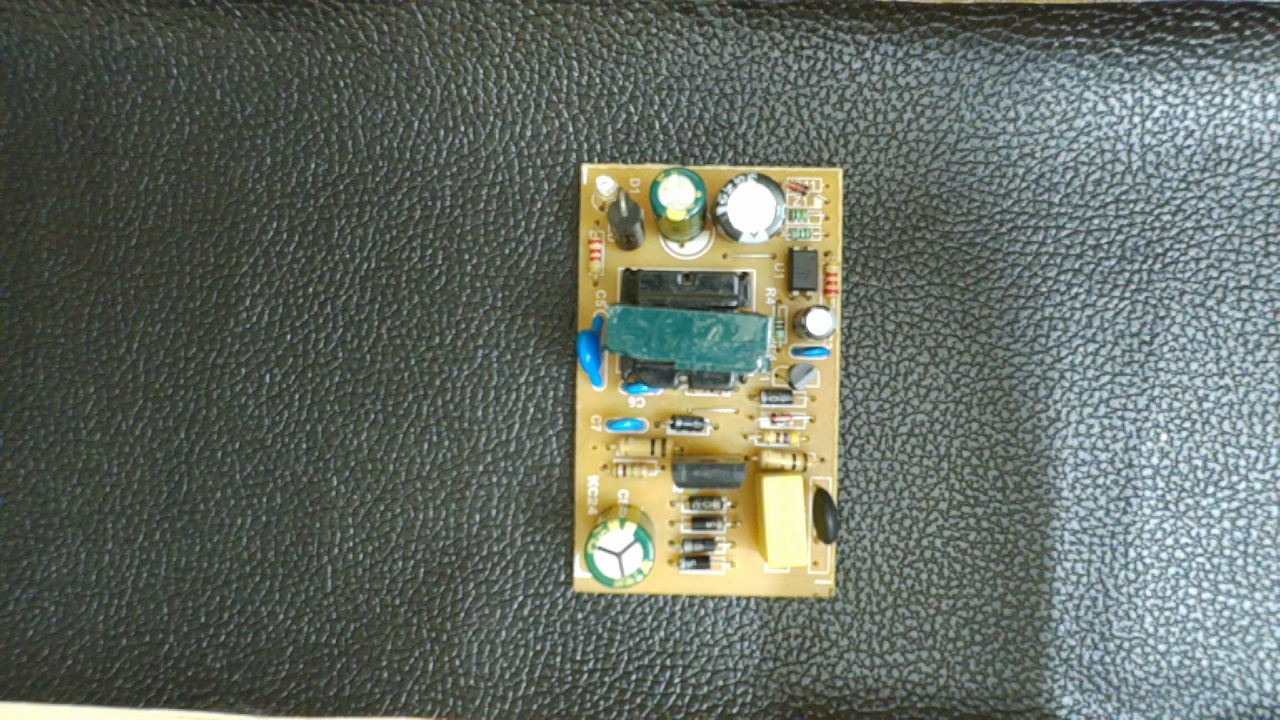fuse: (812, 480, 840, 551)
hv_capacitor: (584, 503, 657, 588)
mov: (578, 306, 611, 396)
optocoupler: (785, 242, 821, 302)
